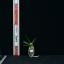leaf: (26, 35, 31, 45), (31, 38, 37, 44), (23, 41, 30, 45), (23, 45, 31, 47)
